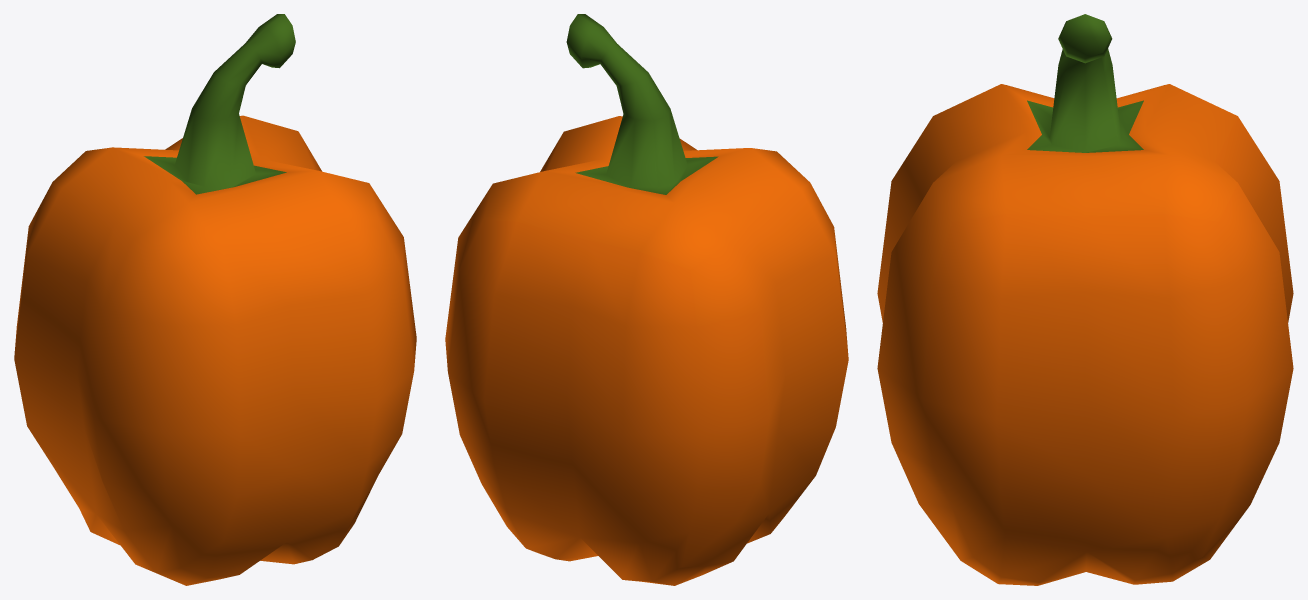
File: pepper_orange.glb
The picture shows the model from 3 angles, left to right: view 1: azimuth 30°, elevation 25°; view 2: azimuth 150°, elevation 25°; view 3: azimuth 270°, elevation 25°; orthographic projection. The views are drawn at different scales.
Visible parts, largest first — view 1: Pepper_Orange; view 2: Pepper_Orange; view 3: Pepper_Orange.
Part boxes in pixels (box(x1,y1,x2,y2)): Pepper_Orange: box(14, 14, 416, 585); Pepper_Orange: box(445, 14, 848, 585); Pepper_Orange: box(877, 14, 1293, 585).
Size of the model in its own units: 0.1045 by 0.1599 by 0.1045.
1 material, 1 textured.
